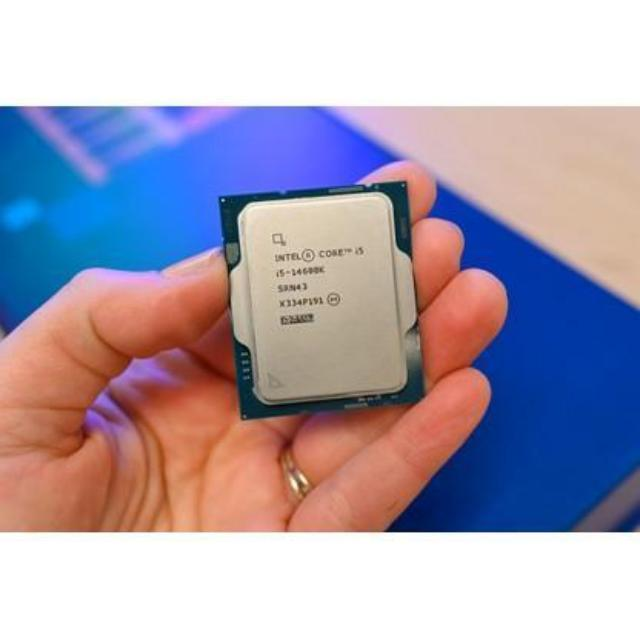CPU: (222, 186, 424, 417)
